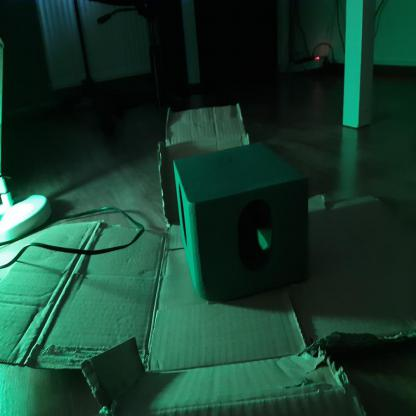CornerCasting: (172, 137, 308, 306)
